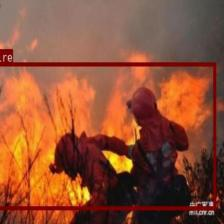fire: (0, 62, 215, 209)
